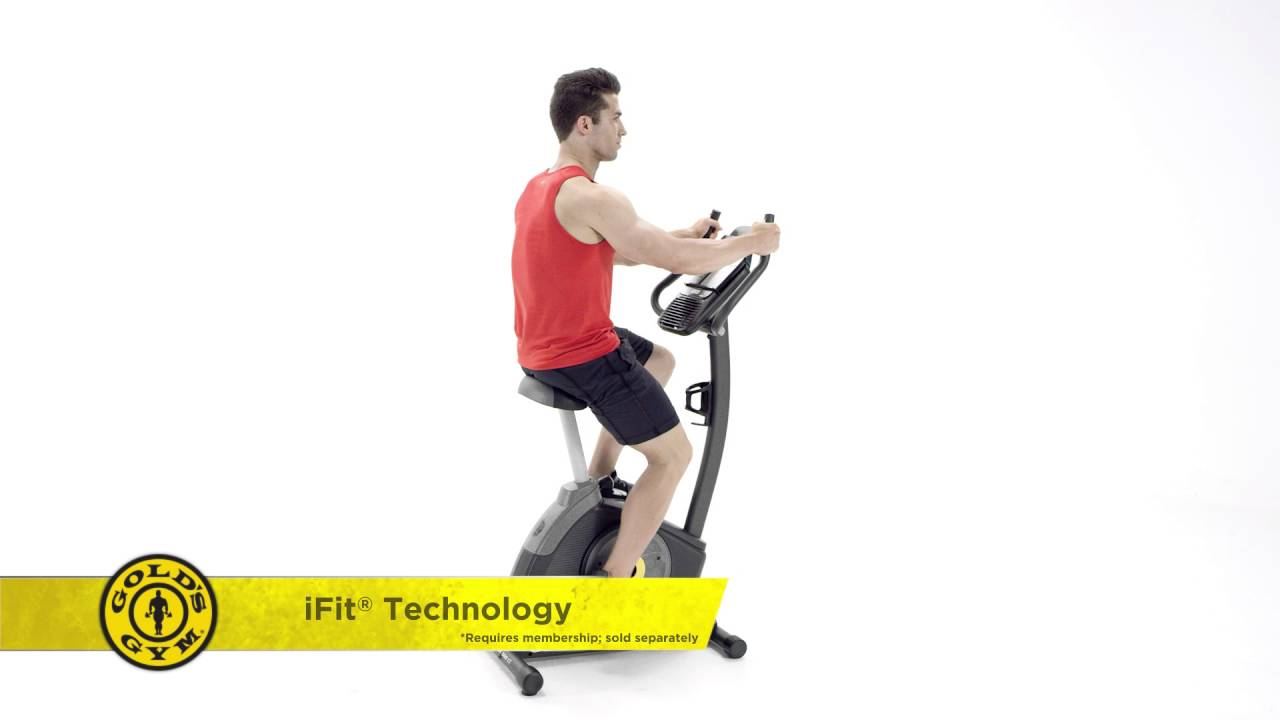gym_bike: (445, 205, 773, 692)
